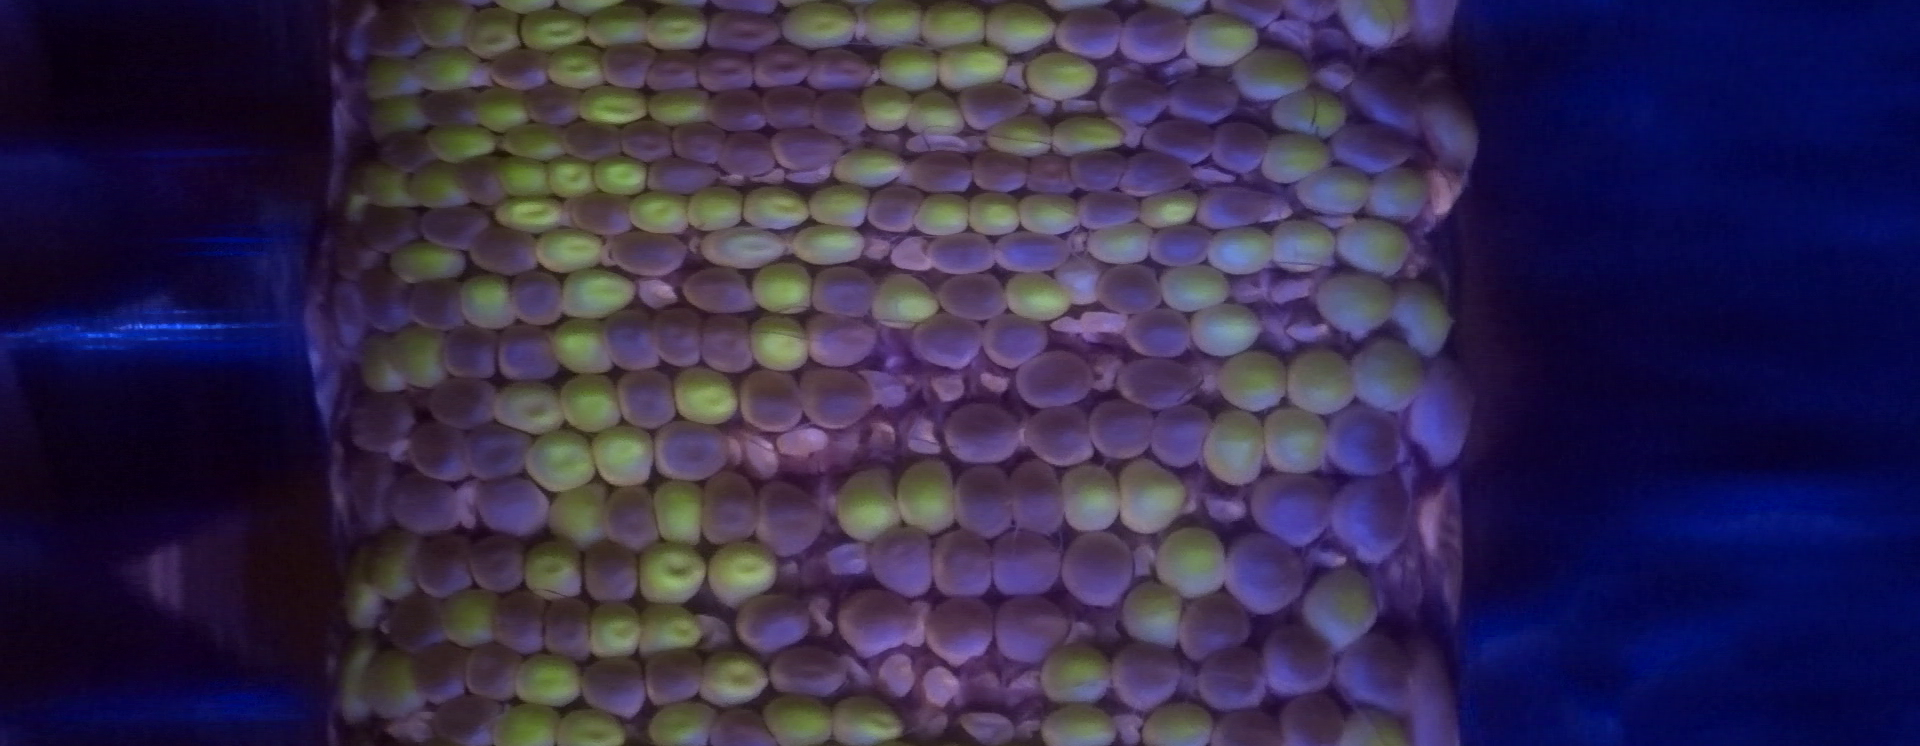fluorescent: (1299, 559, 1381, 653), (1348, 336, 1429, 415), (1116, 453, 1190, 535), (835, 462, 905, 548), (1333, 211, 1416, 283), (1314, 272, 1403, 338), (1201, 405, 1269, 490), (1151, 523, 1228, 597), (1265, 396, 1335, 477), (1286, 345, 1365, 414), (1040, 638, 1116, 708), (550, 477, 613, 559), (698, 647, 778, 712), (898, 452, 960, 534), (1393, 276, 1455, 356), (1119, 577, 1187, 650), (1057, 461, 1123, 535), (1229, 40, 1311, 100), (1218, 348, 1291, 415), (867, 269, 943, 333), (709, 539, 778, 609), (440, 584, 504, 657), (634, 541, 707, 606), (696, 225, 789, 276), (389, 320, 453, 392), (1269, 209, 1337, 276), (558, 267, 637, 325), (369, 643, 426, 722), (649, 472, 707, 550), (493, 379, 568, 439), (1187, 298, 1262, 356), (1269, 86, 1349, 141), (594, 420, 660, 488), (338, 546, 391, 631), (336, 631, 381, 728), (528, 429, 595, 494), (367, 526, 425, 601), (760, 688, 836, 746), (748, 260, 822, 318), (747, 310, 814, 374), (524, 537, 587, 605), (1158, 258, 1236, 314), (1296, 164, 1374, 218), (827, 695, 909, 746), (673, 363, 740, 426), (1258, 129, 1332, 185), (1187, 9, 1259, 66), (561, 371, 624, 436), (585, 597, 648, 663), (632, 601, 709, 654), (1340, 1, 1420, 51), (782, 1, 861, 53), (1025, 47, 1100, 100), (626, 187, 696, 245), (740, 179, 811, 235), (936, 43, 1011, 96), (553, 316, 620, 376), (1138, 696, 1216, 746), (1363, 167, 1428, 227), (984, 1, 1057, 55), (1033, 702, 1120, 746), (460, 266, 520, 330), (1209, 220, 1277, 276), (1086, 217, 1157, 269), (1007, 266, 1071, 323), (1329, 701, 1411, 746), (516, 653, 585, 706), (393, 238, 476, 282), (534, 222, 609, 271), (360, 159, 425, 216), (878, 40, 945, 94), (576, 83, 658, 127), (860, 1, 929, 53), (1136, 180, 1200, 236), (804, 178, 876, 228), (516, 5, 591, 51), (829, 146, 909, 190), (921, 1, 991, 51), (414, 45, 485, 94), (489, 699, 563, 746), (549, 704, 632, 746), (790, 222, 868, 266), (492, 195, 571, 239), (902, 87, 971, 137), (647, 698, 718, 746), (1015, 187, 1082, 238), (1051, 111, 1127, 156), (498, 122, 573, 165), (410, 160, 471, 212), (587, 7, 658, 51), (422, 120, 497, 162), (647, 6, 715, 51), (863, 80, 920, 135), (687, 181, 744, 235), (911, 190, 976, 238), (496, 154, 557, 205), (988, 113, 1052, 160), (365, 330, 409, 398), (362, 51, 429, 97), (545, 43, 609, 89), (415, 1, 475, 50), (364, 97, 430, 141), (467, 9, 523, 60), (545, 152, 604, 201), (645, 86, 715, 126), (475, 86, 533, 135), (591, 153, 653, 198), (966, 189, 1024, 236)
nonfluorescent: (1414, 72, 1488, 180), (1404, 624, 1467, 746), (1331, 478, 1412, 566), (1224, 533, 1304, 612), (1412, 360, 1468, 469), (1335, 628, 1411, 709), (1247, 472, 1327, 546), (831, 587, 909, 657), (1063, 530, 1134, 605), (1326, 404, 1400, 474), (1176, 593, 1251, 660), (757, 478, 822, 556), (866, 524, 933, 598), (1113, 639, 1182, 710), (1261, 626, 1330, 696), (651, 418, 729, 479), (922, 595, 987, 668), (800, 366, 869, 432), (1022, 404, 1093, 467), (999, 597, 1067, 661), (348, 390, 416, 452), (464, 424, 536, 483), (951, 463, 1010, 535), (1014, 353, 1092, 407), (699, 472, 756, 546), (1346, 70, 1422, 125), (384, 475, 460, 530), (944, 405, 1015, 464), (997, 533, 1059, 599), (804, 314, 879, 369), (1117, 359, 1196, 410), (1336, 119, 1413, 171), (1196, 650, 1266, 708), (478, 478, 549, 533), (738, 370, 800, 432), (737, 597, 811, 648), (580, 659, 645, 717), (1198, 183, 1284, 225), (1011, 459, 1062, 533), (348, 451, 391, 537), (602, 304, 659, 369), (497, 318, 552, 385), (1102, 262, 1166, 318), (409, 423, 473, 479), (1118, 9, 1184, 62), (490, 587, 542, 654), (1150, 403, 1210, 462), (413, 530, 470, 592), (682, 266, 756, 314), (602, 484, 658, 548), (583, 537, 638, 600), (913, 314, 978, 367), (620, 367, 673, 432), (1092, 401, 1152, 458), (933, 530, 991, 590), (700, 314, 754, 377), (981, 312, 1051, 361), (768, 648, 841, 695), (1057, 5, 1117, 60), (611, 228, 682, 274), (1125, 309, 1191, 358), (811, 267, 876, 316), (937, 273, 1007, 318), (642, 650, 702, 703), (465, 229, 538, 272), (1280, 697, 1346, 744), (954, 87, 1025, 130), (389, 597, 447, 649), (1140, 118, 1212, 159), (432, 698, 498, 744), (332, 1, 377, 67), (542, 597, 589, 660), (1172, 77, 1240, 120), (997, 233, 1069, 273), (465, 646, 518, 701), (411, 644, 467, 697), (654, 307, 703, 366), (364, 16, 427, 60), (647, 156, 714, 197), (419, 207, 487, 247), (410, 276, 465, 326), (471, 538, 522, 593), (771, 125, 838, 167), (429, 382, 495, 424), (705, 10, 778, 48), (1210, 1, 1292, 34), (1210, 120, 1266, 168), (362, 269, 407, 330), (1404, 1, 1457, 50), (486, 45, 546, 88), (970, 148, 1027, 192), (710, 88, 769, 131), (1078, 189, 1136, 232), (812, 87, 864, 135), (571, 195, 631, 236), (864, 186, 920, 232), (359, 198, 414, 244), (1103, 81, 1164, 121), (563, 120, 624, 160), (444, 330, 495, 379), (336, 234, 386, 283), (718, 130, 774, 173), (708, 709, 776, 744), (512, 272, 560, 321), (600, 44, 655, 86), (1153, 223, 1209, 265), (644, 47, 696, 91), (460, 151, 504, 202), (928, 239, 992, 274), (808, 51, 867, 89), (1125, 157, 1195, 189), (696, 50, 752, 89), (424, 86, 480, 125), (910, 154, 965, 194), (756, 44, 807, 86), (527, 83, 580, 122), (767, 85, 816, 127), (1071, 148, 1119, 191), (617, 121, 669, 160), (1212, 712, 1276, 742), (671, 122, 725, 156), (376, 129, 430, 160), (1030, 160, 1075, 194)
